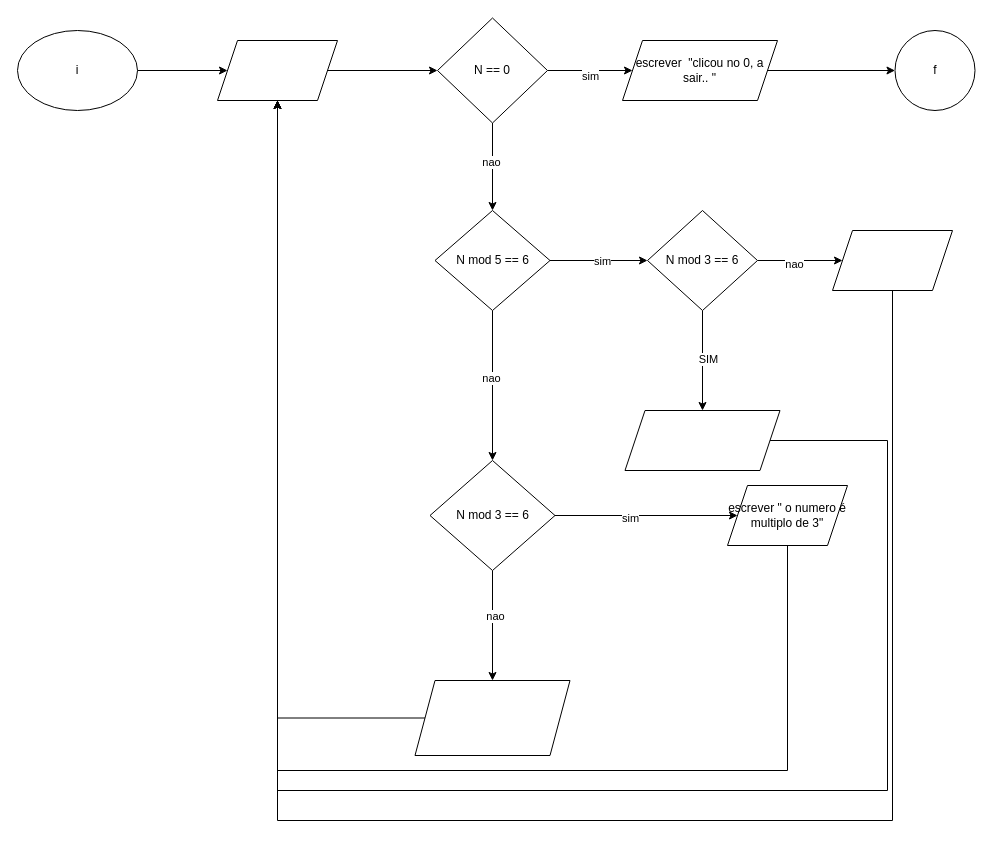
This 993x846 diagram has some shape labels left out. The shapes that lost their labels are listed below. From the top down, each one's centre as x and y in pixels, then its label:
the point at 277,70: ler N
the point at 892,260: escrever " O numero é multiplo de 5"
the point at 702,440: escrever "O numero é multiplo de 3 e 5"
the point at 492,718: escrever " o numero nao é multiplo de 3 e 5."
